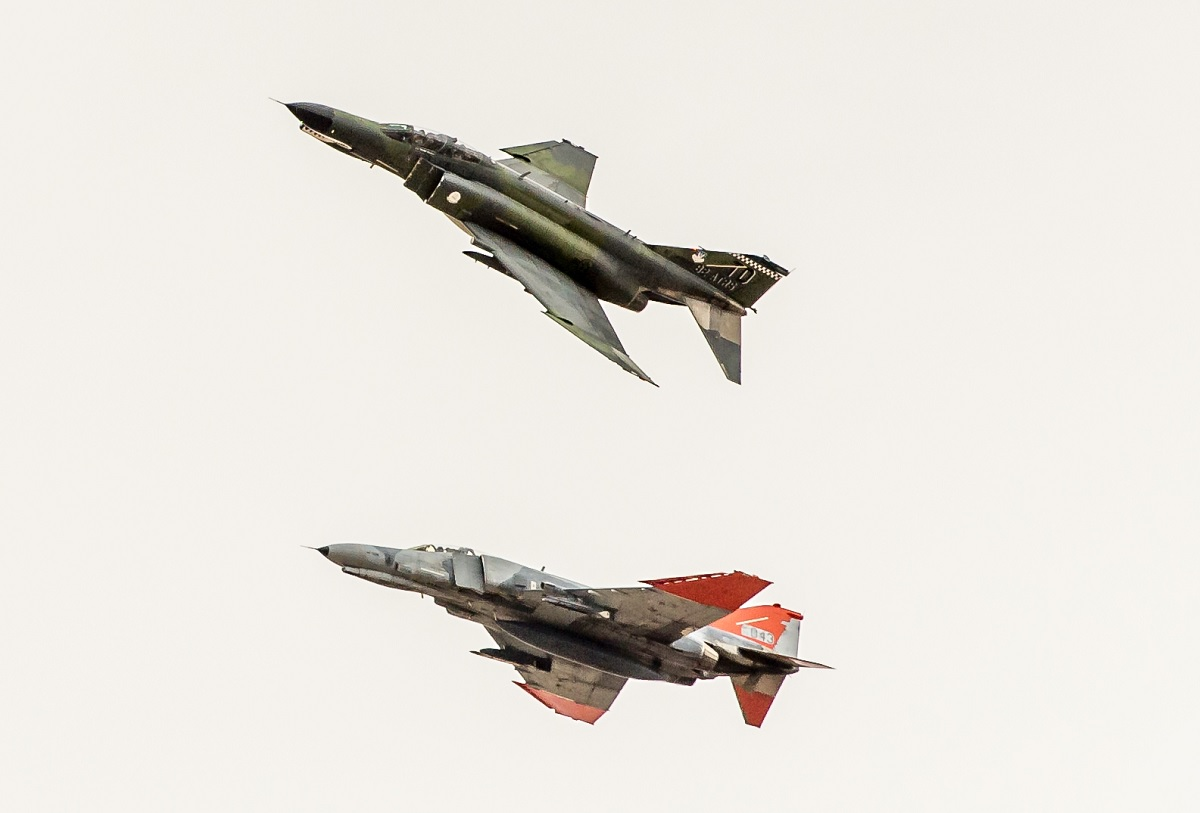F4: (267, 96, 797, 388), (299, 542, 838, 729)
